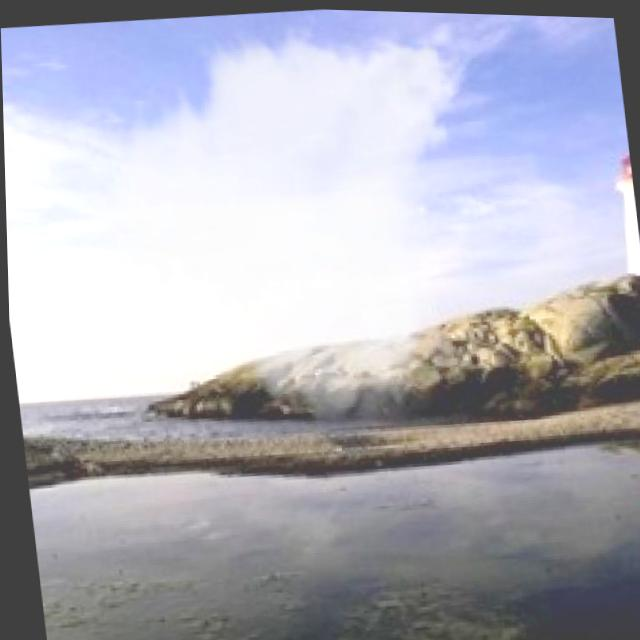Smoke: (49, 10, 508, 440)
